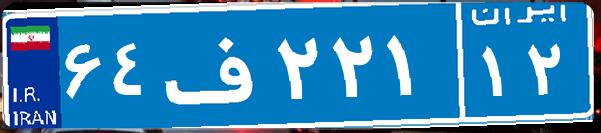1: (385, 28, 445, 110), (475, 38, 525, 113)
2: (273, 28, 330, 110), (330, 28, 385, 110), (525, 38, 570, 115)
4: (110, 28, 158, 105)
6: (57, 26, 110, 107)
ف: (158, 15, 273, 115)
